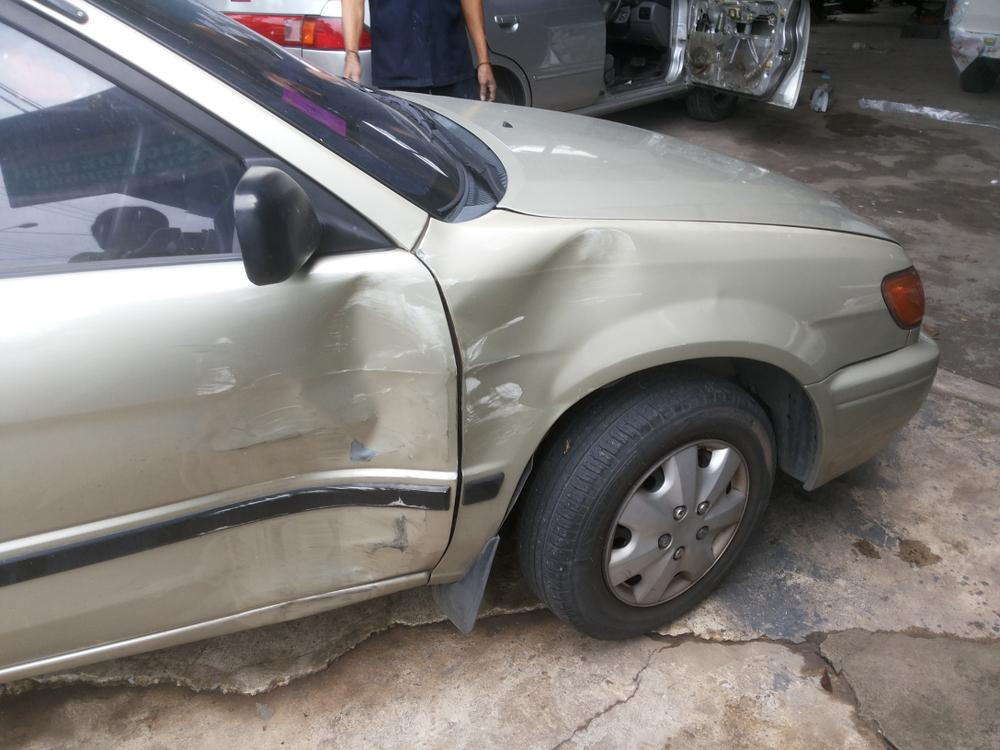dent: (184, 266, 454, 621), (452, 229, 643, 471)
